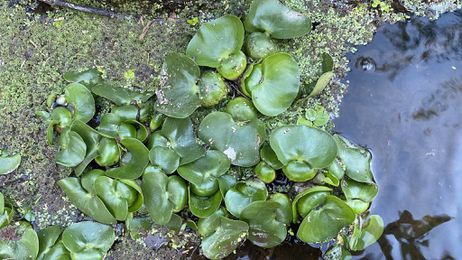water_hyacinth: (1, 1, 382, 259)
